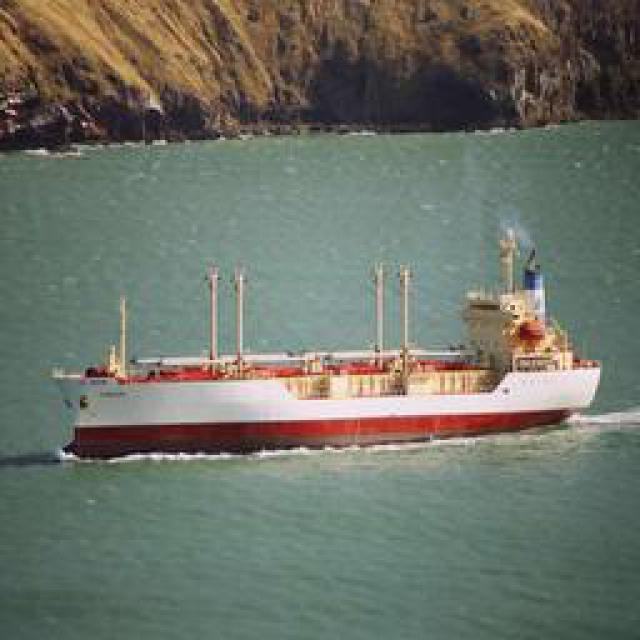Ship: (55, 235, 605, 463)
